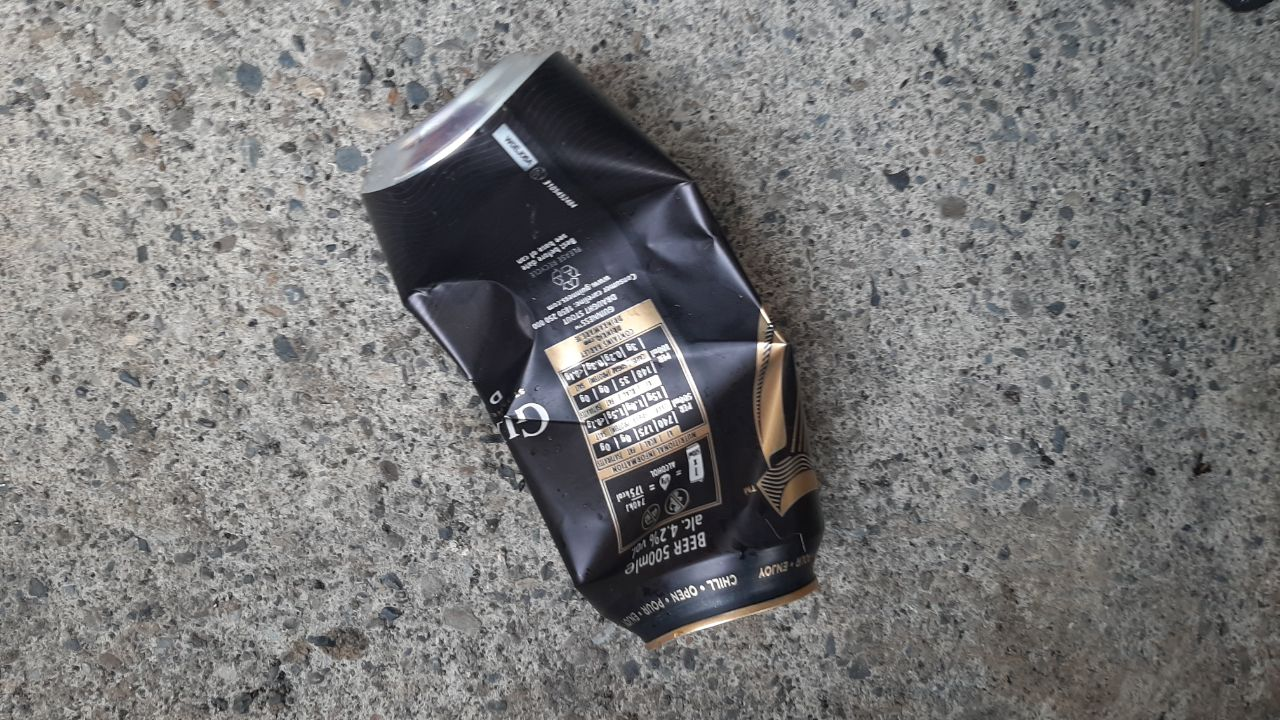Can: (359, 50, 823, 652)
